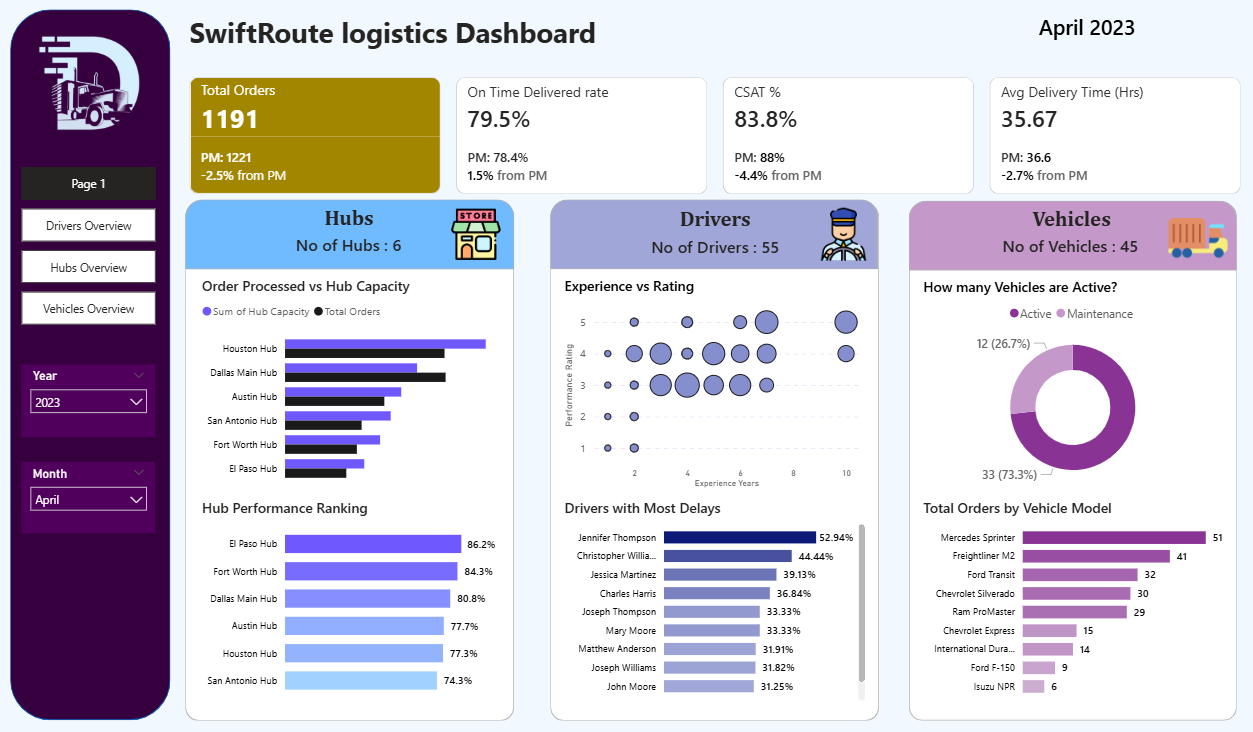

What the dashboard file says about the page in this screenshot:
{"tool":"powerbi","page":{"name":"Page 1","canvas":[1450,850],"ordinal":0},"visuals":[{"type":"shape","box":[12.4,14,185,820.8],"z":0},{"type":"textbox","box":[214.5,14,531.6,68.4],"z":1000},{"type":"cardVisual","fields":{"Data":["Orders.Total Orders","Orders.On Time Delivered rate","Orders.CSAT %","Orders.Avg Delivery Time (Hrs)"]},"box":[214.4,81.8,1224.4,150.6],"z":2000},{"type":"slicer","fields":{"Values":["Date Table.Year"]},"box":[26.3,424.7,154.7,84],"z":3000},{"type":"slicer","fields":{"Values":["Date Table.Month"]},"box":[26.3,536.7,154.7,82.3],"z":4000},{"type":"shape","box":[215.1,238.2,379.7,597.7],"z":5000},{"type":"shape","box":[214.5,233.2,380,80.8],"z":6000},{"type":"textbox","box":[327.7,235.3,153,39],"z":7000},{"type":"cardVisual","fields":{"Data":["Hubs.No of Hubs"]},"box":[287.6,256.5,233.2,57.5],"z":8000},{"type":"clusteredBarChart","title":"Order Processed vs Hub Capacity","fields":{"Y":["Sum(Hubs.Hub Capacity)","Orders.Total Orders"],"Category":["Hubs.HubName"]},"box":[230.1,321.8,350,250.3],"z":9000},{"type":"barChart","title":"Hub Performance Ranking","fields":{"Category":["Hubs.HubName"],"Y":["Orders.On Time Delivered rate"]},"box":[229.5,578.9,349.4,239.6],"z":10000},{"type":"shape","box":[636.6,238.2,379.7,597.7],"z":11000},{"type":"shape","box":[637.1,233.8,378.6,80.7],"z":12000},{"type":"shape","box":[1050.3,238.7,378.6,597.6],"z":13000},{"type":"textbox","box":[750.7,236.8,153,39],"z":14000},{"type":"cardVisual","fields":{"Data":["Drivers.No of Drivers"]},"box":[736.2,258.4,233.9,56.3],"z":15000},{"type":"scatterChart","title":"Experience vs Rating","fields":{"X":["Drivers.Experience Years"],"Y":["Drivers.Performance Rating"],"Size":["Sum(Drivers.Experience Years)"]},"box":[648.2,321.9,356.6,249.7],"z":16000},{"type":"barChart","title":"Drivers with Most Delays","fields":{"Category":["Drivers.DriverName"],"Y":["Orders.Delayed Delivered Rate"]},"box":[648.6,579.5,357.2,238.7],"z":17000},{"type":"shape","box":[1050.3,235.4,378.6,80.7],"z":18000},{"type":"textbox","box":[1162.2,237.1,153.1,39.5],"z":19000},{"type":"cardVisual","fields":{"Data":["Vehicles.No of vehicles"]},"box":[1142.5,258.5,233.8,56],"z":20000},{"type":"donutChart","title":"How many Vehicles are Active?","fields":{"Category":["Vehicles.Vehicle Status"],"Y":["CountNonNull(Vehicles.Vehicle ID)"]},"box":[1061.8,322.7,355.6,250.2],"z":21000},{"type":"barChart","title":"Total Orders by Vehicle Model","fields":{"Category":["Vehicles.Vehicle Model"],"Y":["Orders.Total Orders"]},"box":[1061.8,579.5,357.2,238.7],"z":22000},{"type":"image","box":[26.3,32.9,159.7,141.6],"z":23000},{"type":"cardVisual","fields":{"Data":["Vehicles.Month Year"]},"box":[1183.6,0,233.8,67.5],"z":24000},{"type":"pageNavigator","box":[26.4,195.9,155.4,185],"z":25000},{"type":"image","box":[520.7,239.4,59.1,68.4],"z":26000},{"type":"image","box":[943.6,234.7,62.2,77.7],"z":27000},{"type":"image","box":[1347.7,239.4,73.1,85.5],"z":28000}]}

Visuals, with their boxes in screenshot pixels (x1, y1, x2, y2), scaled from the page's 1450x850 canvas onto the 1253x732 screenshot:
shape: pyautogui.locateOnScreen(11, 12, 171, 719)
textbox: pyautogui.locateOnScreen(185, 12, 645, 71)
cardVisual - Orders.Total Orders x Orders.On Time Delivered rate: pyautogui.locateOnScreen(185, 70, 1243, 200)
slicer - Date Table.Year: pyautogui.locateOnScreen(23, 366, 156, 438)
slicer - Date Table.Month: pyautogui.locateOnScreen(23, 462, 156, 533)
shape: pyautogui.locateOnScreen(186, 205, 514, 720)
shape: pyautogui.locateOnScreen(185, 201, 514, 270)
textbox: pyautogui.locateOnScreen(283, 203, 415, 236)
cardVisual - Hubs.No of Hubs: pyautogui.locateOnScreen(249, 221, 450, 270)
"Order Processed vs Hub Capacity" clusteredBarChart: pyautogui.locateOnScreen(199, 277, 501, 493)
"Hub Performance Ranking" barChart: pyautogui.locateOnScreen(198, 499, 500, 705)
shape: pyautogui.locateOnScreen(550, 205, 878, 720)
shape: pyautogui.locateOnScreen(551, 201, 878, 271)
shape: pyautogui.locateOnScreen(908, 206, 1235, 720)
textbox: pyautogui.locateOnScreen(649, 204, 781, 238)
cardVisual - Drivers.No of Drivers: pyautogui.locateOnScreen(636, 223, 838, 271)
"Experience vs Rating" scatterChart: pyautogui.locateOnScreen(560, 277, 868, 492)
"Drivers with Most Delays" barChart: pyautogui.locateOnScreen(560, 499, 869, 705)
shape: pyautogui.locateOnScreen(908, 203, 1235, 272)
textbox: pyautogui.locateOnScreen(1004, 204, 1137, 238)
cardVisual - Vehicles.No of vehicles: pyautogui.locateOnScreen(987, 223, 1189, 271)
"How many Vehicles are Active?" donutChart: pyautogui.locateOnScreen(918, 278, 1225, 493)
"Total Orders by Vehicle Model" barChart: pyautogui.locateOnScreen(918, 499, 1226, 705)
image: pyautogui.locateOnScreen(23, 28, 161, 150)
cardVisual - Vehicles.Month Year: pyautogui.locateOnScreen(1023, 0, 1225, 58)
pageNavigator: pyautogui.locateOnScreen(23, 169, 157, 328)
image: pyautogui.locateOnScreen(450, 206, 501, 265)
image: pyautogui.locateOnScreen(815, 202, 869, 269)
image: pyautogui.locateOnScreen(1165, 206, 1228, 280)
